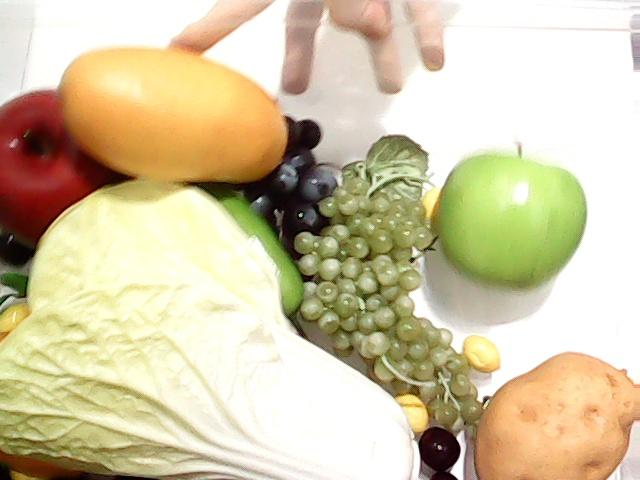apple: (436, 140, 588, 292), (0, 66, 116, 257)
grape: (306, 170, 496, 432), (238, 112, 334, 262)
lemon: (0, 303, 78, 480)
mango: (46, 43, 314, 188)
napa cabbage: (2, 184, 414, 480)
pepper: (190, 178, 306, 314)
potato: (475, 352, 640, 480)
